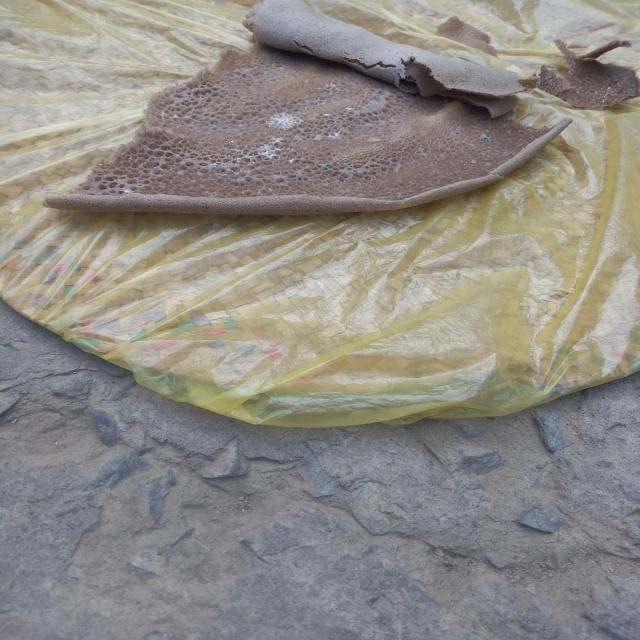injera_mold: (250, 139, 283, 162), (268, 112, 299, 133), (322, 83, 344, 93), (480, 133, 490, 145), (211, 160, 221, 172), (328, 129, 340, 139), (320, 163, 334, 171), (232, 148, 245, 154), (120, 187, 132, 193), (234, 158, 244, 164), (344, 106, 354, 112), (246, 162, 256, 168), (229, 168, 236, 176), (158, 111, 166, 118), (322, 112, 331, 118), (172, 114, 180, 120), (127, 156, 136, 161), (286, 159, 296, 163), (223, 159, 231, 164), (462, 160, 468, 166), (227, 140, 236, 144), (218, 173, 227, 177), (304, 20, 309, 24), (208, 156, 212, 160)
